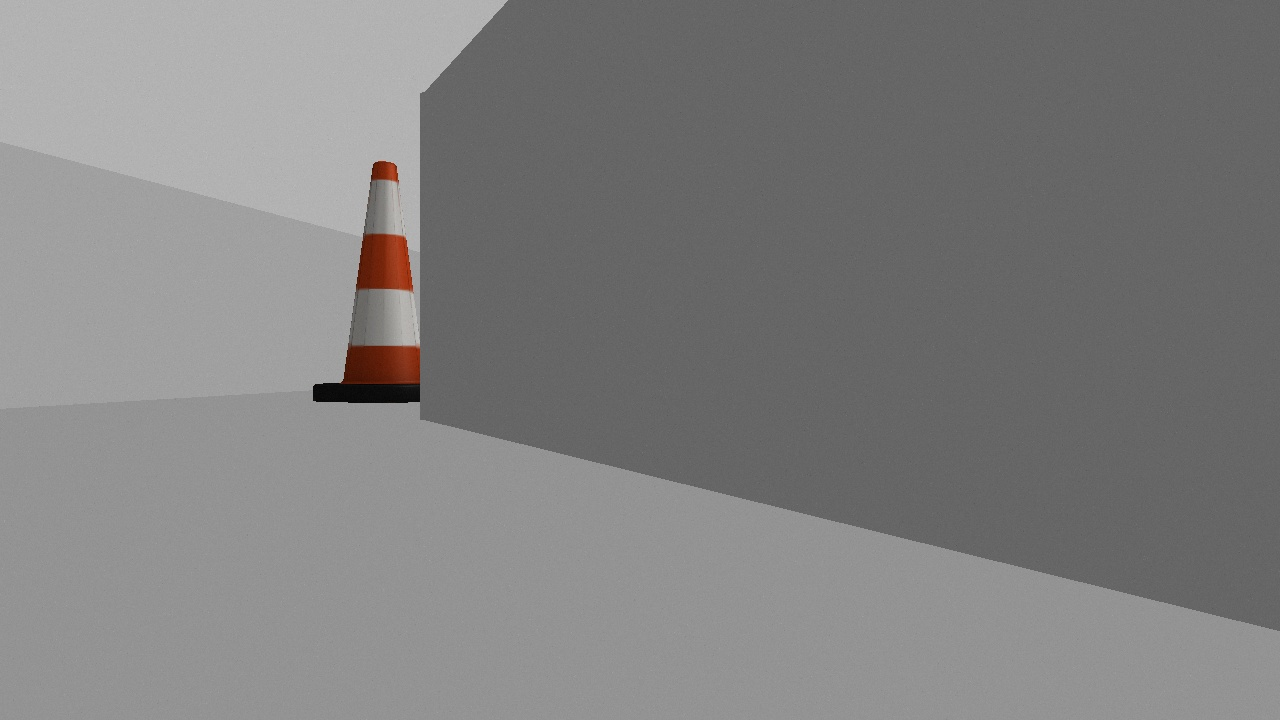barricade: (312, 147, 456, 404)
